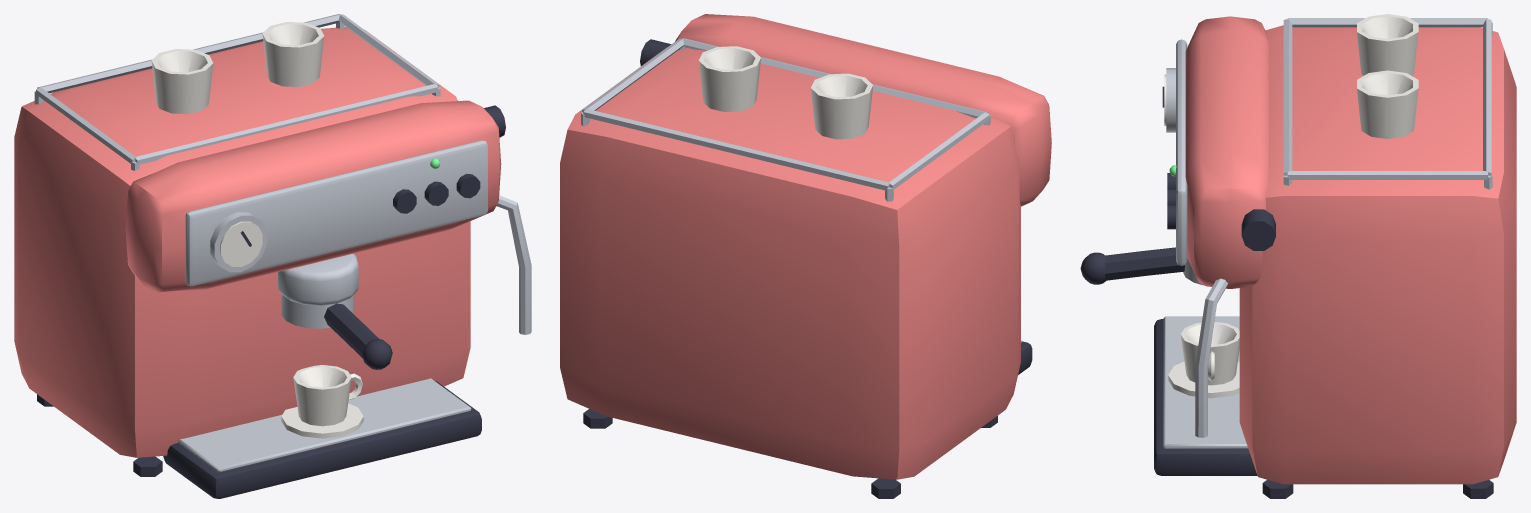
File: coffee_machine.glb
The picture shows the model from 3 angles, left to right: view 1: azimuth 30°, elevation 25°; view 2: azimuth 150°, elevation 25°; view 3: azimuth 270°, elevation 25°; orthographic projection. The views are drawn at different scales.
Parts seen in each view (by area): view 1: coffee_body, chrome, charcoal, white; view 2: coffee_body, white, chrome, charcoal; view 3: coffee_body, chrome, white, charcoal.
Part boxes in pixels (x1,y1,x2,y2): coffee_body: [14, 27, 501, 457]; chrome: [34, 14, 531, 472]; charcoal: [37, 105, 505, 498]; white: [151, 22, 363, 438]; coffee_body: [560, 14, 1051, 479]; white: [698, 46, 873, 139]; chrome: [581, 38, 1021, 342]; charcoal: [583, 39, 1032, 498]; coffee_body: [1185, 16, 1516, 484]; chrome: [1163, 18, 1492, 448]; white: [1164, 14, 1418, 398]; charcoal: [1080, 86, 1493, 498].
Bounding box in the file's own units: 0.4817 × 0.422 × 0.457.
